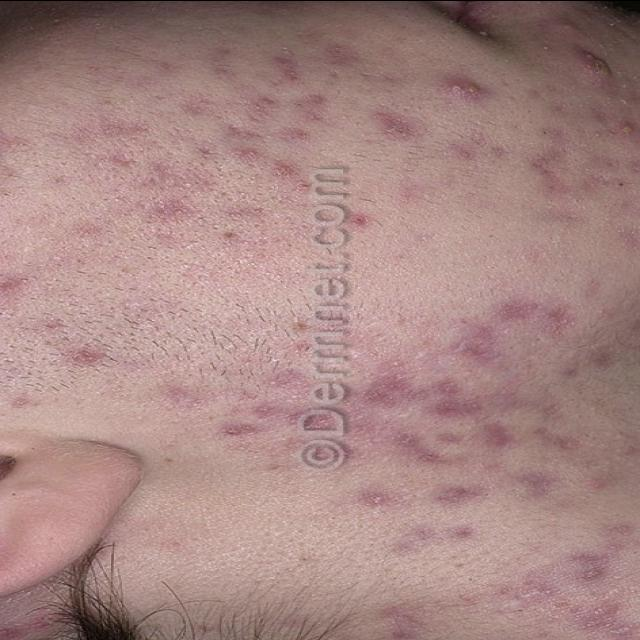Acne: (568, 48, 620, 92), (442, 128, 512, 160), (458, 323, 502, 363), (368, 109, 418, 141), (360, 373, 408, 405), (384, 604, 424, 640), (421, 398, 489, 418), (147, 196, 197, 223), (441, 74, 489, 102), (568, 552, 612, 582), (576, 603, 622, 630), (352, 488, 404, 510), (244, 90, 276, 124), (433, 484, 487, 504), (266, 54, 304, 82), (546, 304, 578, 336), (494, 300, 540, 322), (527, 148, 565, 174), (606, 115, 640, 144), (294, 93, 328, 121), (546, 14, 586, 36), (322, 43, 360, 66), (518, 470, 554, 494), (478, 423, 512, 447), (69, 346, 109, 366), (386, 430, 426, 450), (426, 375, 463, 396), (218, 421, 262, 438), (266, 158, 300, 180), (224, 144, 262, 162), (344, 209, 374, 231), (604, 620, 638, 638), (448, 522, 478, 542), (581, 473, 611, 493), (248, 402, 280, 418), (414, 450, 440, 466)
